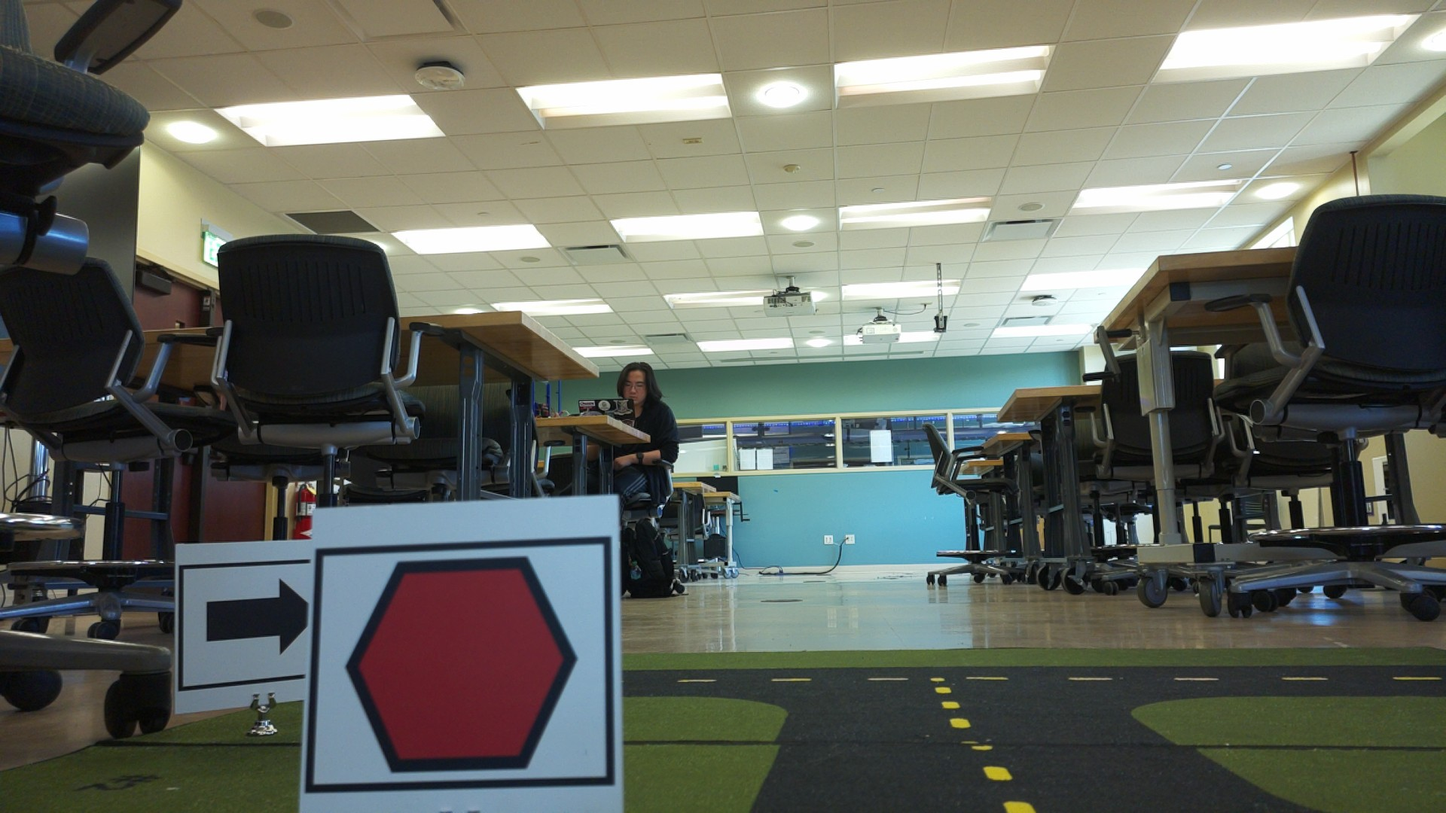stop: (330, 549, 595, 783)
turnright: (183, 570, 310, 670)
yellowline: (983, 760, 1039, 813), (936, 681, 975, 732)
